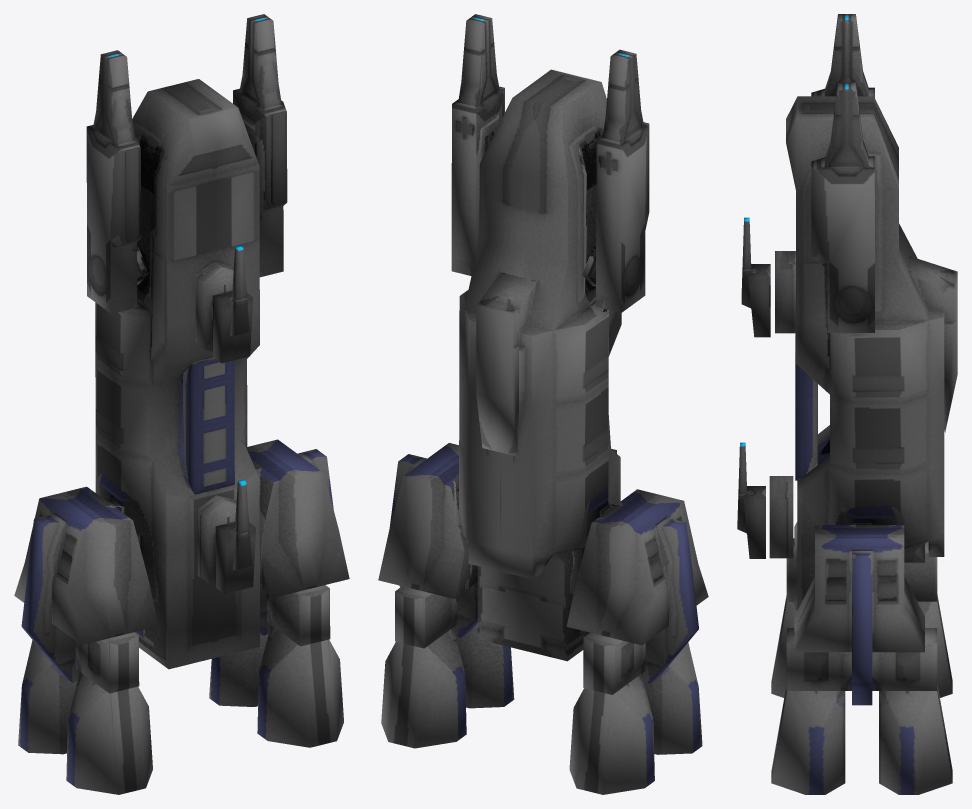
File: blue_spaceship_03.fbx
3 renders of one model, left to right at view 1: azimuth 30°, elevation 25°; view 2: azimuth 150°, elevation 25°; view 3: azimuth 270°, elevation 25°, orthographic. The views are drawn at different scales.
Visible parts, largest first — view 1: FedFrigateMod; view 2: FedFrigateMod; view 3: FedFrigateMod.
Part boxes in pixels (<box>): FedFrigateMod: <box>14,14,349,794</box>; FedFrigateMod: <box>378,14,708,794</box>; FedFrigateMod: <box>737,14,957,794</box>.
Size of the model in its own units: 2679 by 1716 by 5846.
